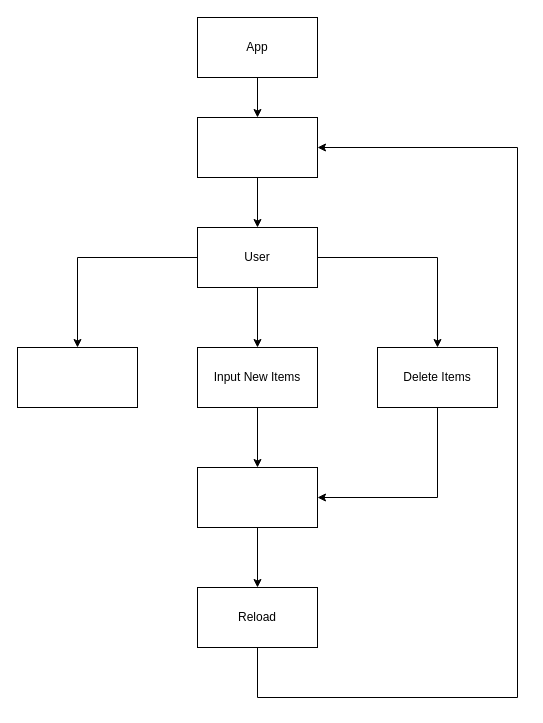
Some shapes in this 543 by 723 pixel diagram are drawn without their labels. The centre of each missing label's shape, as x and y in pixels:
Interface: the point at 257,147
Load Items: the point at 77,377
Submit: the point at 257,497
